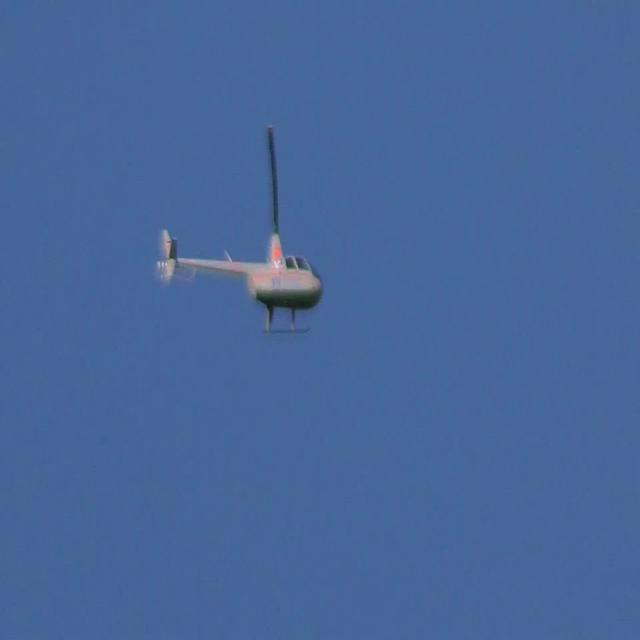CIV_HELO: (157, 227, 326, 337)
